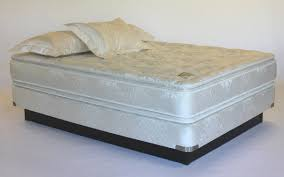bed-matress: (9, 38, 278, 118)
